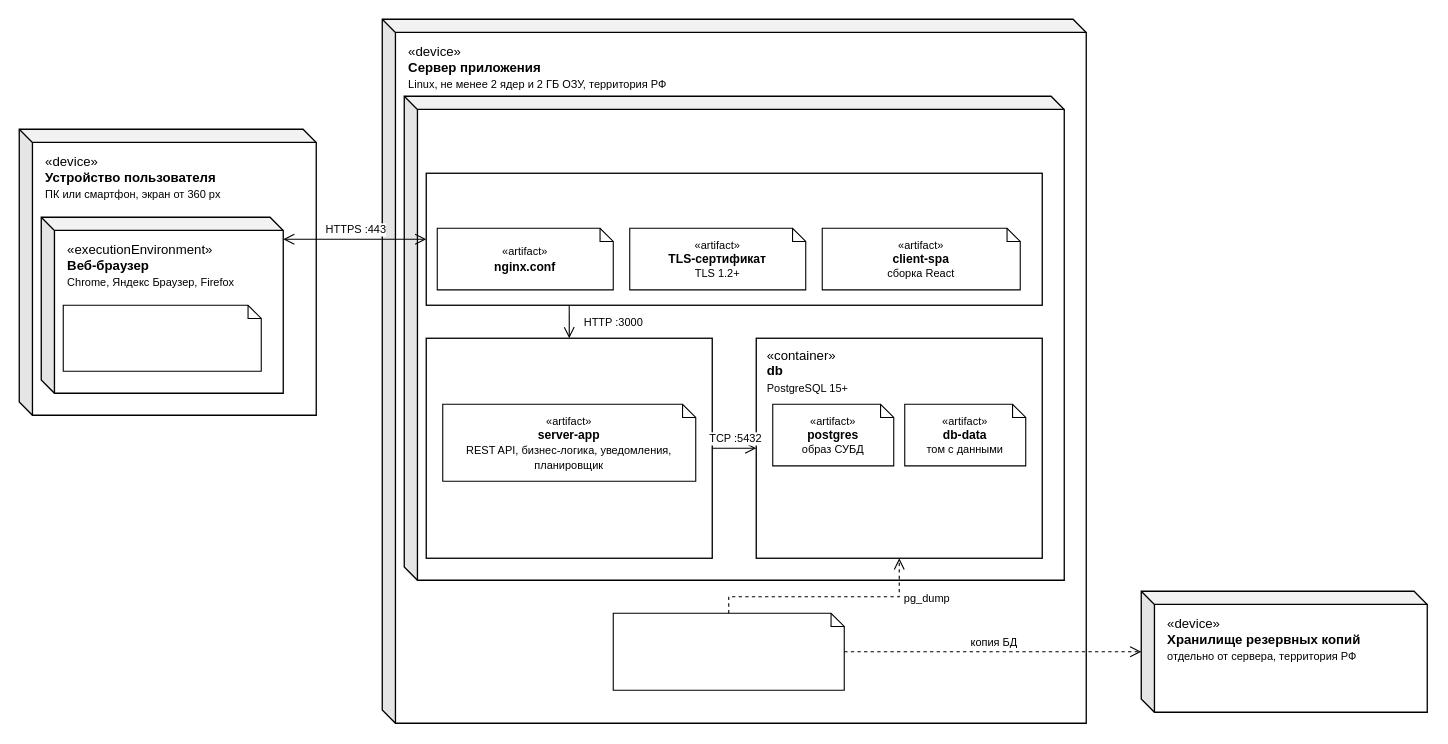
Some shapes in this 1448 by 744 pixel diagram are drawn without their labels. The shapes that lost their labels are listed below. From the top down, each one's box as (x1, y1, x2, y2) in pixels, then its label:
(425, 172, 1042, 305): «container» client nginx: TLS, раздача SPA, прокси /api
(62, 304, 261, 371): «artifact» client-spa JS, HTML, CSS (загружается с сервера)
(403, 95, 1064, 580): «executionEnvironment» Docker Engine docker compose, внутренняя сеть
(425, 337, 712, 558): «container» server Node.js LTS
(612, 612, 844, 690): «artifact» backup-db pg_dump по расписанию, ежесуточно
